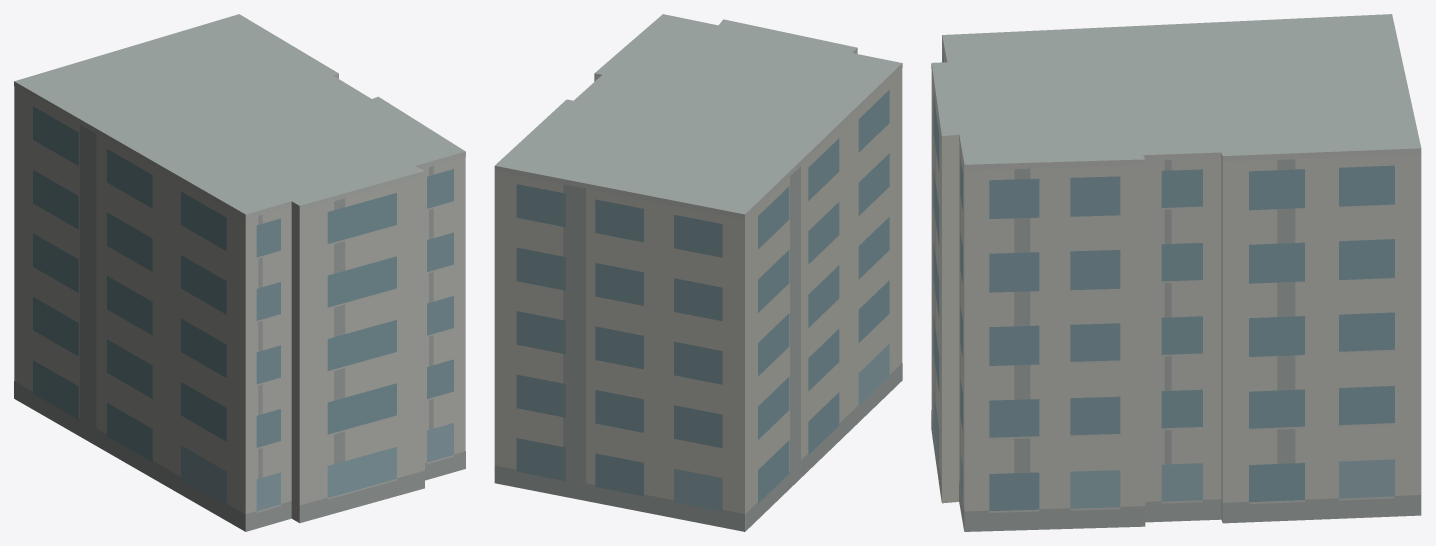
File: survey-upis-32537602.glb
3 renders of one model, left to right at view 1: azimuth 30°, elevation 25°; view 2: azimuth 150°, elevation 25°; view 3: azimuth 270°, elevation 25°, orthographic. The views are drawn at different scales.
Parts seen in each view (by area): view 1: survey-upis-32537602.tmp; view 2: survey-upis-32537602.tmp; view 3: survey-upis-32537602.tmp.
Boxes of the visible parts, left/top/right/bottom form: survey-upis-32537602.tmp: left=14, top=14, right=465, bottom=531; survey-upis-32537602.tmp: left=494, top=14, right=902, bottom=531; survey-upis-32537602.tmp: left=931, top=14, right=1421, bottom=531.
Size of the model in its own units: 13.3 by 15.1 by 18.27.
